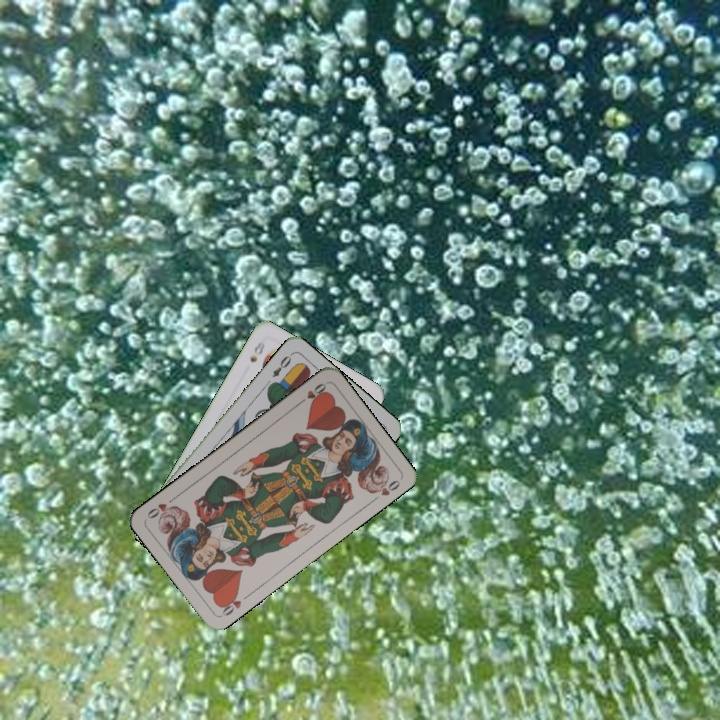EO: (268, 352, 294, 380)
HO: (216, 589, 252, 619), (294, 379, 329, 408)
S8: (246, 337, 267, 365)
